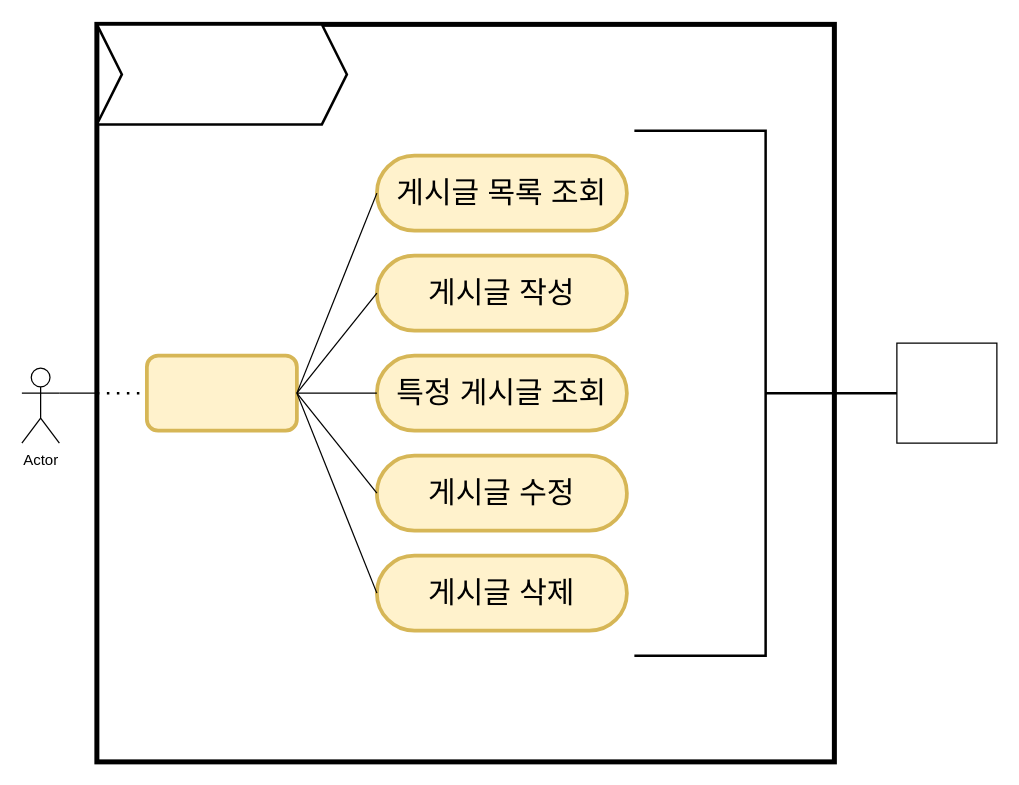
Image size: 1019x785. Some labels were removed from this diagram. Here are the shapes that lost their labels. From the top down, the box of each, then its label:
(95, 22, 348, 125): 게시판 서비스
(144, 353, 298, 432): 게시판
(896, 342, 997, 443): DB
